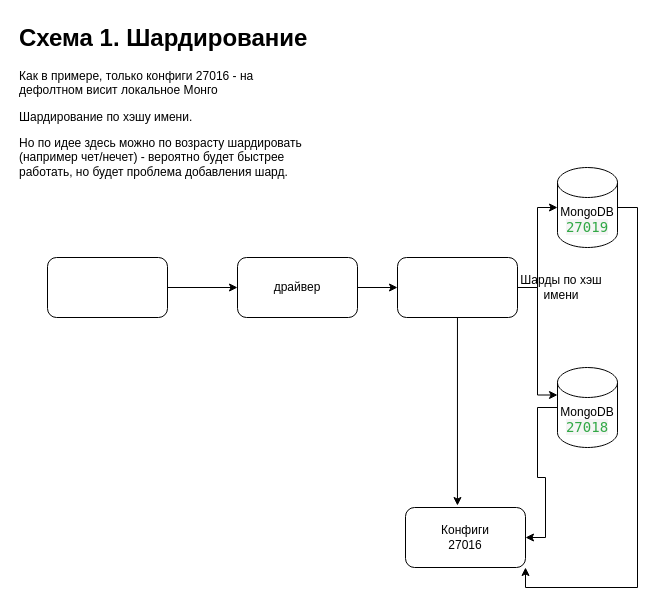
This 663x613 diagram has some shape labels left out. Each missing label, with the box of its shape:
pymongo-api: (46, 256, 168, 318)
Роутер 27020: (396, 256, 518, 318)
